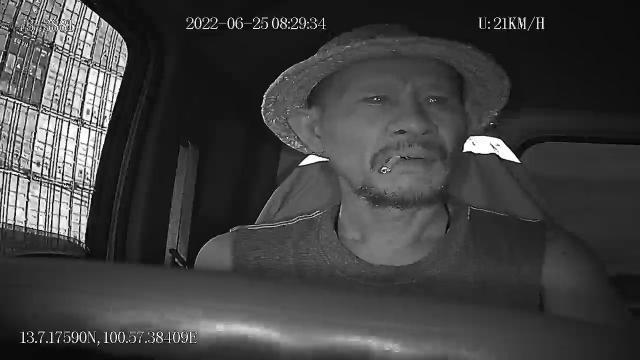SafeDriving: (356, 86, 396, 110), (418, 87, 452, 110)
Smoking: (379, 154, 401, 176)
